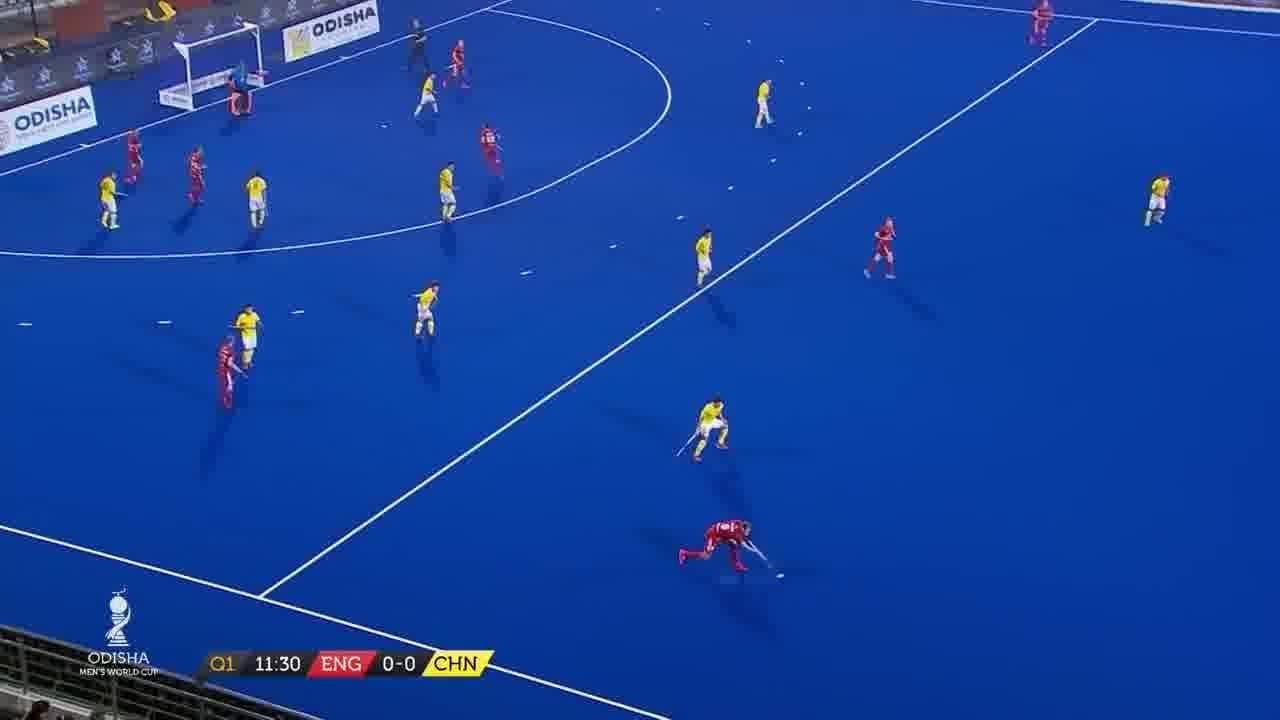ball: (779, 570, 785, 582)
